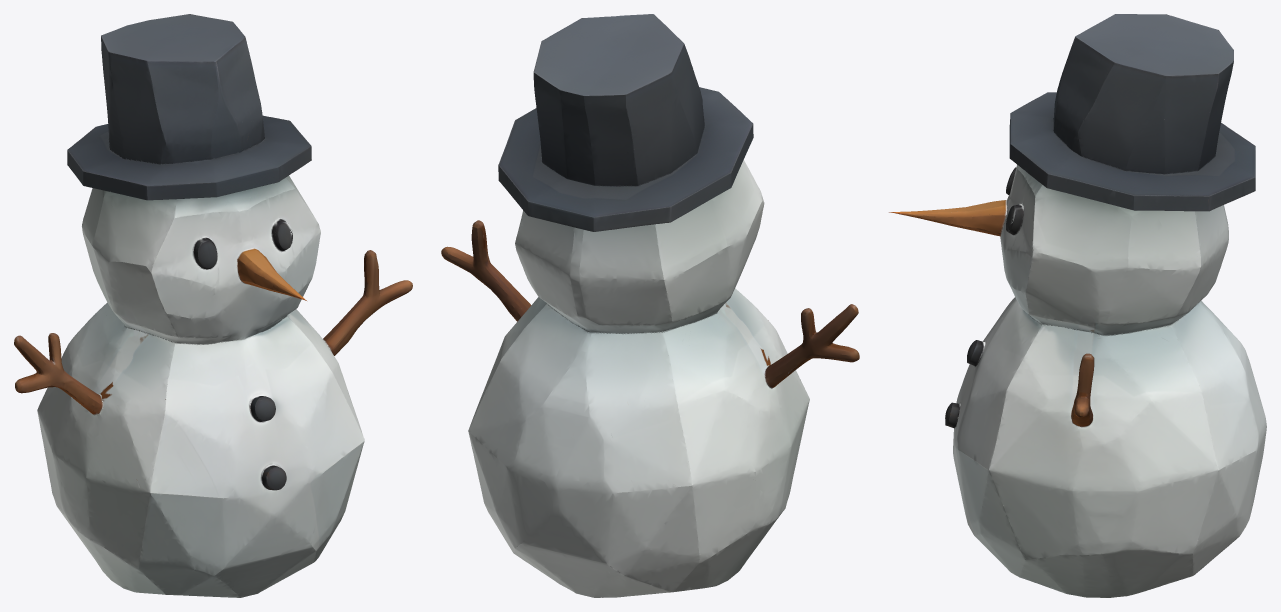
Rendered from snowman.obj.
The picture shows the model from 3 angles, left to right: view 1: azimuth 30°, elevation 25°; view 2: azimuth 150°, elevation 25°; view 3: azimuth 270°, elevation 25°; orthographic projection. The views are drawn at different scales.
Visible parts, largest first — view 1: snowman; view 2: snowman; view 3: snowman.
Part boxes in pixels (x1,y1,x2,y2): snowman: [14, 14, 412, 597]; snowman: [441, 14, 859, 597]; snowman: [889, 14, 1266, 597].
Size of the model in its own units: 1.55 by 1.9 by 1.26.
1 material, 1 textured.
